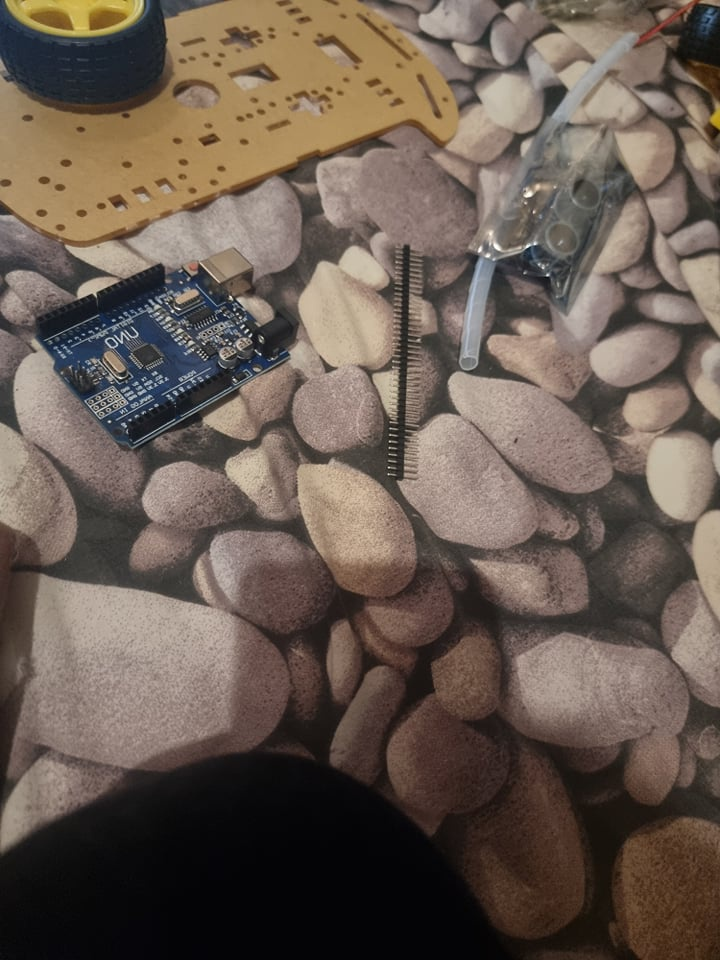SENSOR: (531, 174, 608, 275)
UNO R3: (32, 245, 306, 453)
